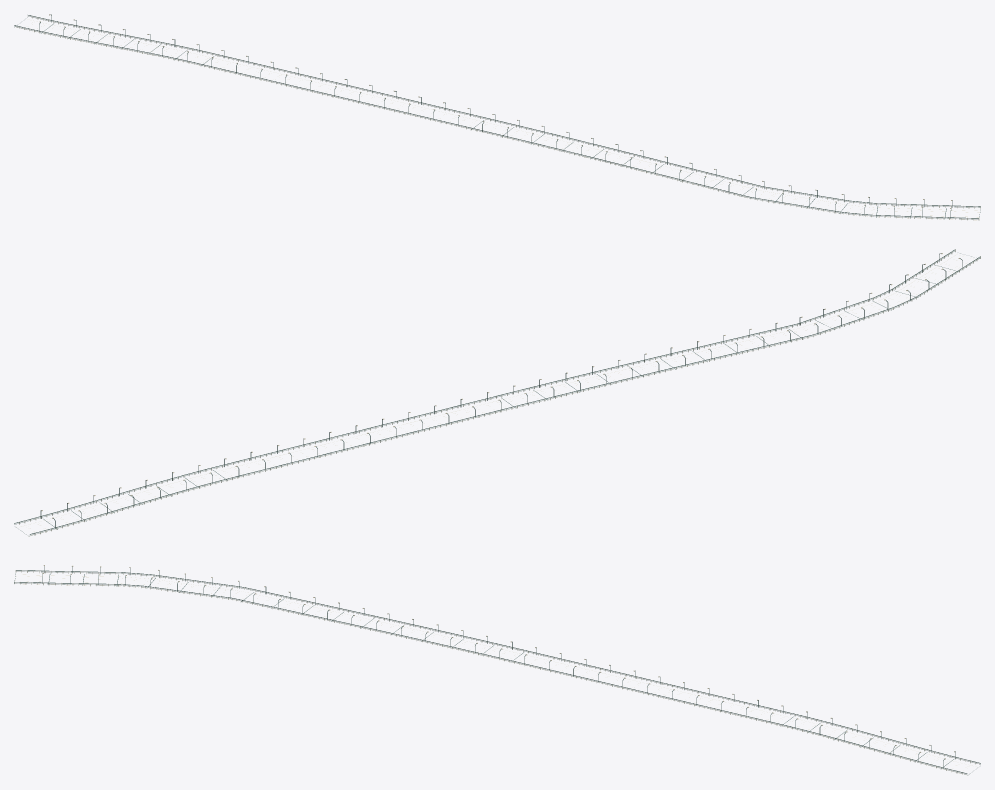
The model's file is transport-2--2.glb.
The picture shows the model from 3 angles, top to bottom: view 1: azimuth 90°, elevation 25°; view 2: azimuth 150°, elevation 25°; view 3: azimuth 270°, elevation 25°; orthographic projection. The views are drawn at different scales.
Parts seen in each view (by area): view 1: RiverBridge_Details_liangqing-bridge; view 2: RiverBridge_Details_liangqing-bridge; view 3: RiverBridge_Details_liangqing-bridge.
Boxes of the visible parts, x1=… form: RiverBridge_Details_liangqing-bridge: x1=14, y1=14, x2=980, y2=220; RiverBridge_Details_liangqing-bridge: x1=14, y1=249, x2=980, y2=536; RiverBridge_Details_liangqing-bridge: x1=14, y1=565, x2=980, y2=775.
Size of the model in its own units: 6.54 by 0.241 by 13.12.
